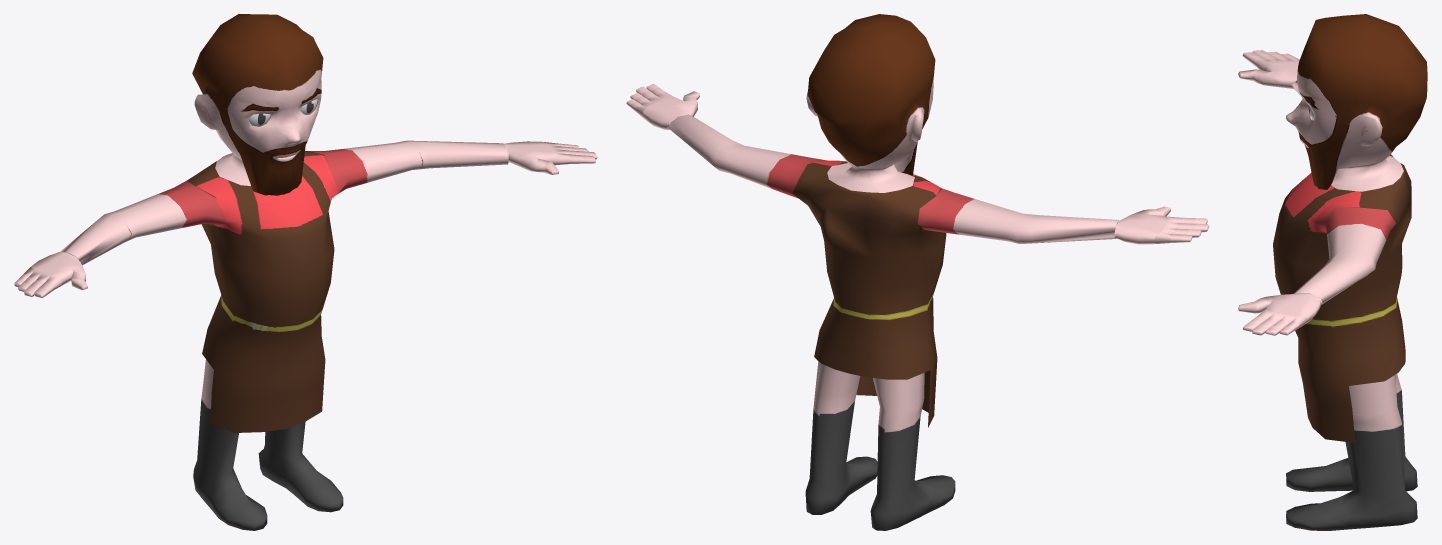
The model's file is Blacksmith-no-rig.fbx.
3 renders of one model, left to right at view 1: azimuth 30°, elevation 25°; view 2: azimuth 150°, elevation 25°; view 3: azimuth 270°, elevation 25°, orthographic.
Parts seen in each view (by area): view 1: Blacksmith; view 2: Blacksmith; view 3: Blacksmith.
Boxes of the visible parts, bbox=[...] form: Blacksmith: bbox=[14, 14, 597, 530]; Blacksmith: bbox=[626, 14, 1209, 530]; Blacksmith: bbox=[1238, 14, 1427, 530].
Bounding box in the file's own units: 3.36 × 0.951 × 2.68.
1 material, 1 textured.
